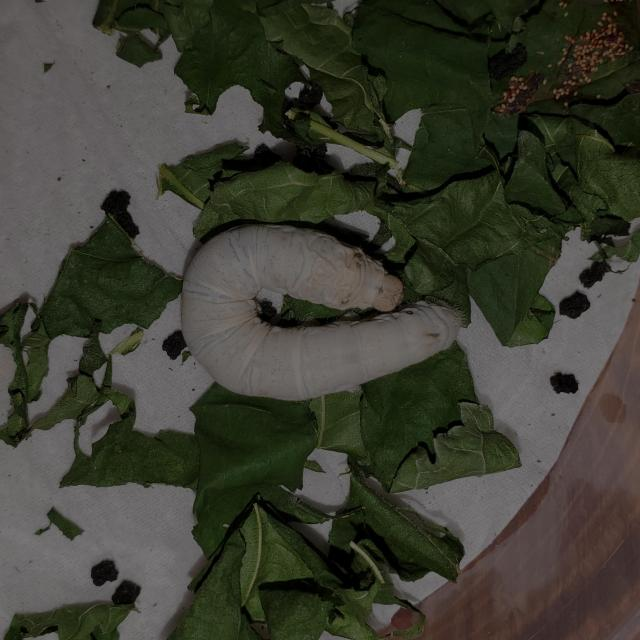Healthy: (148, 187, 494, 409)
